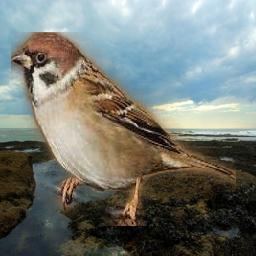Sparrow: (12, 32, 237, 226)
